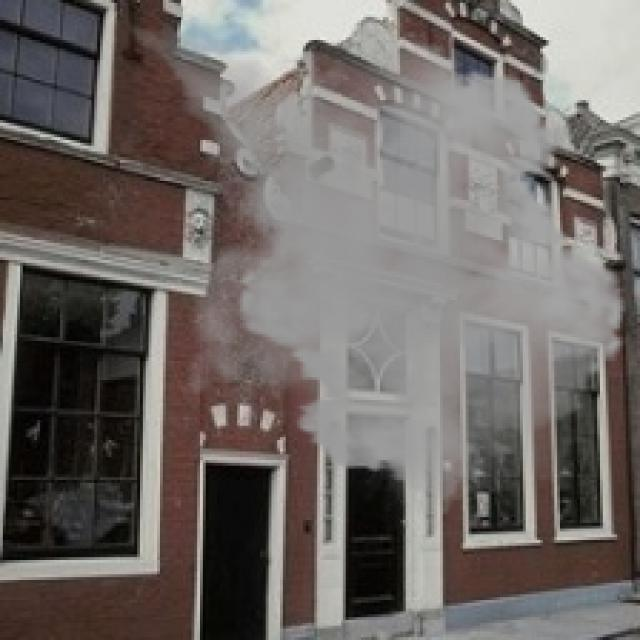Smoke: (100, 11, 637, 532)
